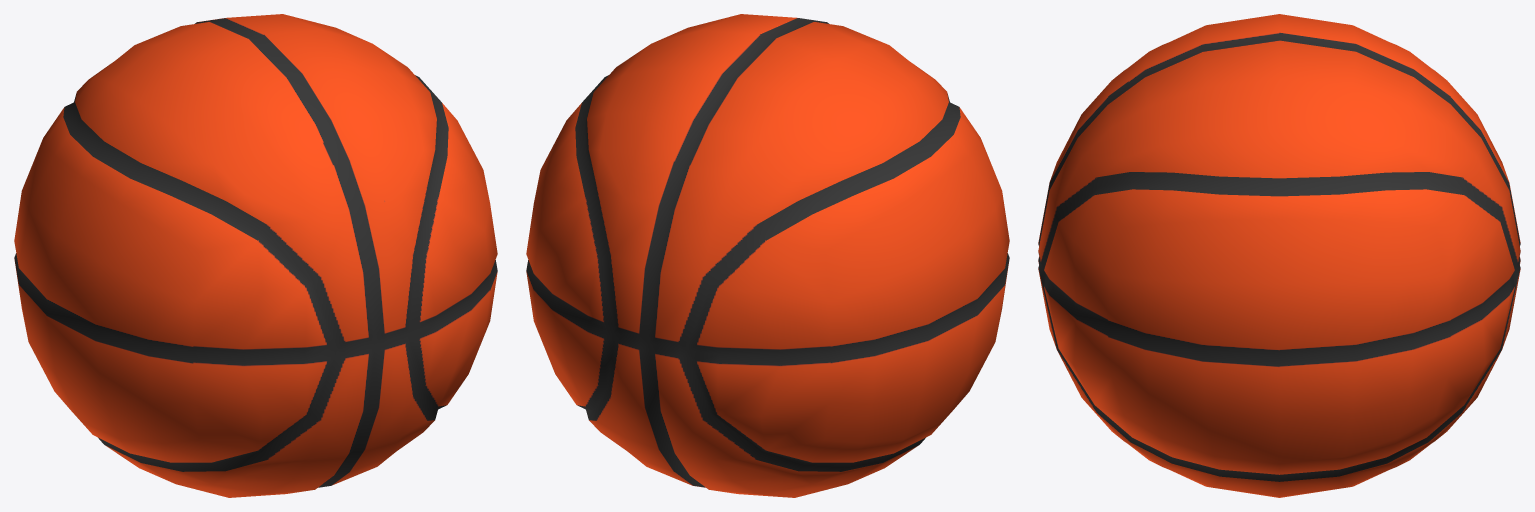
Rendered from basketball.glb.
The picture shows the model from 3 angles, left to right: view 1: azimuth 30°, elevation 25°; view 2: azimuth 150°, elevation 25°; view 3: azimuth 270°, elevation 25°; orthographic projection.
Parts seen in each view (by area): view 1: BasketV1; view 2: BasketV1; view 3: BasketV1.
Part boxes in pixels (bbox=[...]): BasketV1: bbox=[14, 14, 497, 497]; BasketV1: bbox=[526, 14, 1009, 497]; BasketV1: bbox=[1038, 14, 1520, 497].
Size of the model in its own units: 1.92 by 1.92 by 1.92.
1 material, 1 textured.
